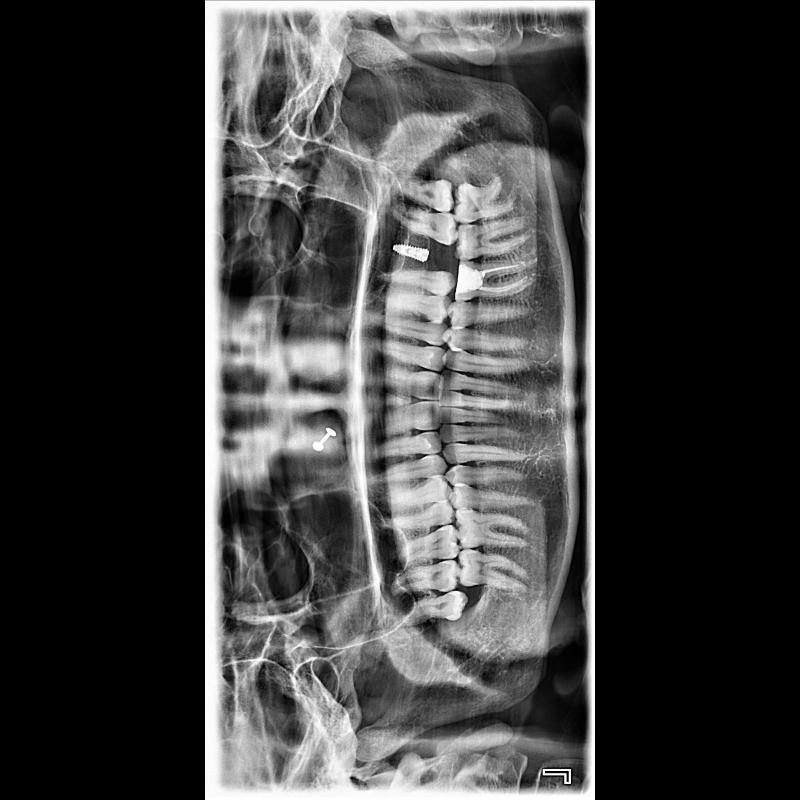osstem: (392, 240, 430, 266)
